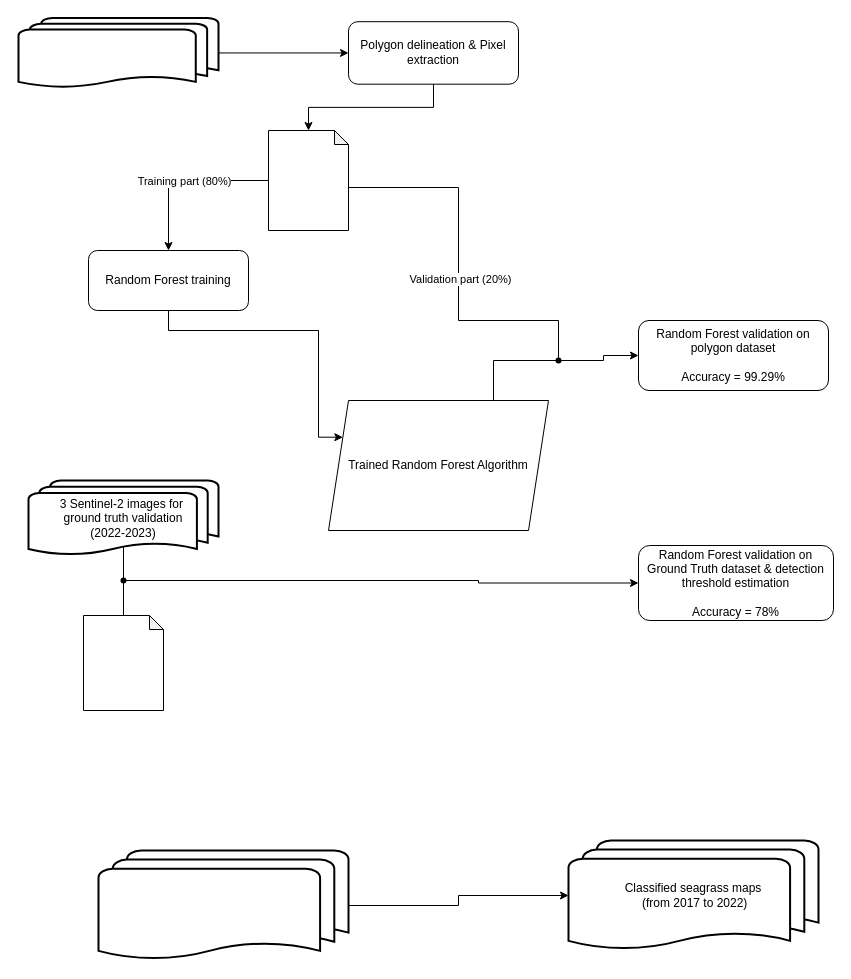
The diagram is 851 pixels wide and 979 high, and some of its shapes have lost their labels. Each missing label, with the box of its shape:
12 Sentinel-2 images (6 in 2017, 6 in 2023): (17, 16, 219, 88)
187 Sentinel-2 images (from 2017 to 2022): (97, 849, 349, 961)
Ground Truth Dataset n = 196 points: (82, 614, 164, 710)
Polygon Dataset n = 7112 pixels: (268, 130, 348, 230)
